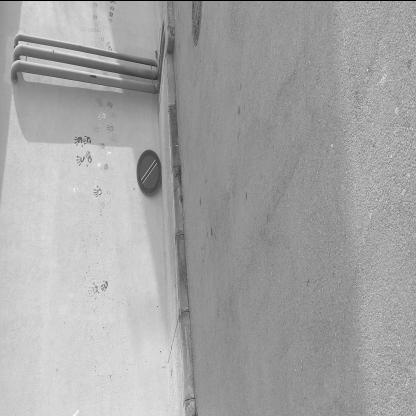No Waiting: (138, 150, 163, 195)
